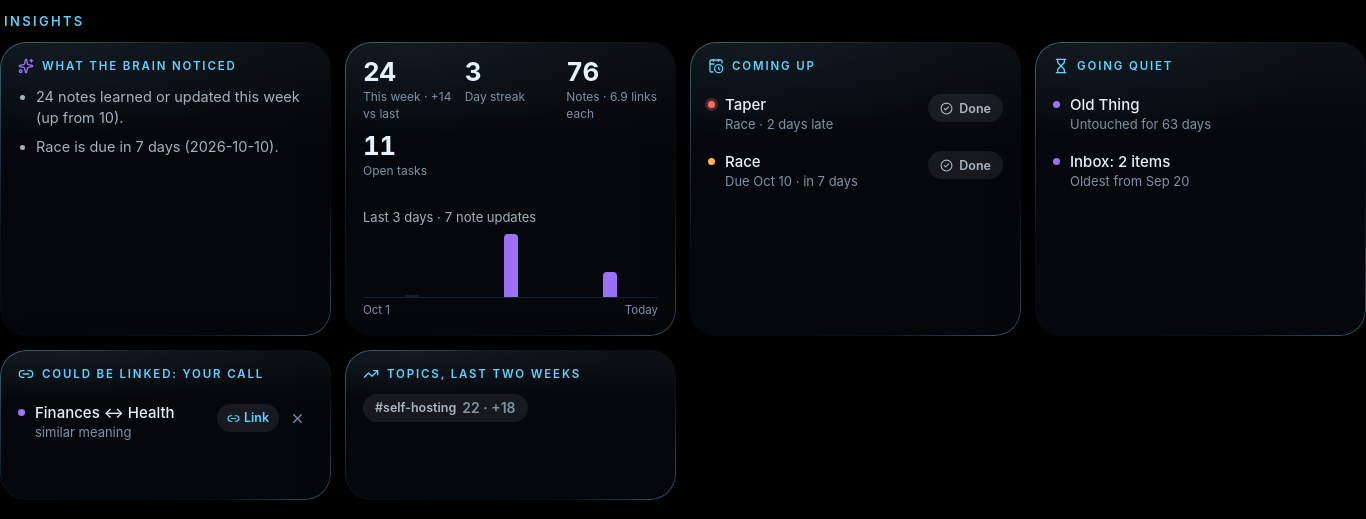
Test: <BrainInsights /> › dismisses a pair as not related, and shows an error in place if it fails
Click the button named "Finances and Health aren't related" at (297, 418), box [281,402,313,434]
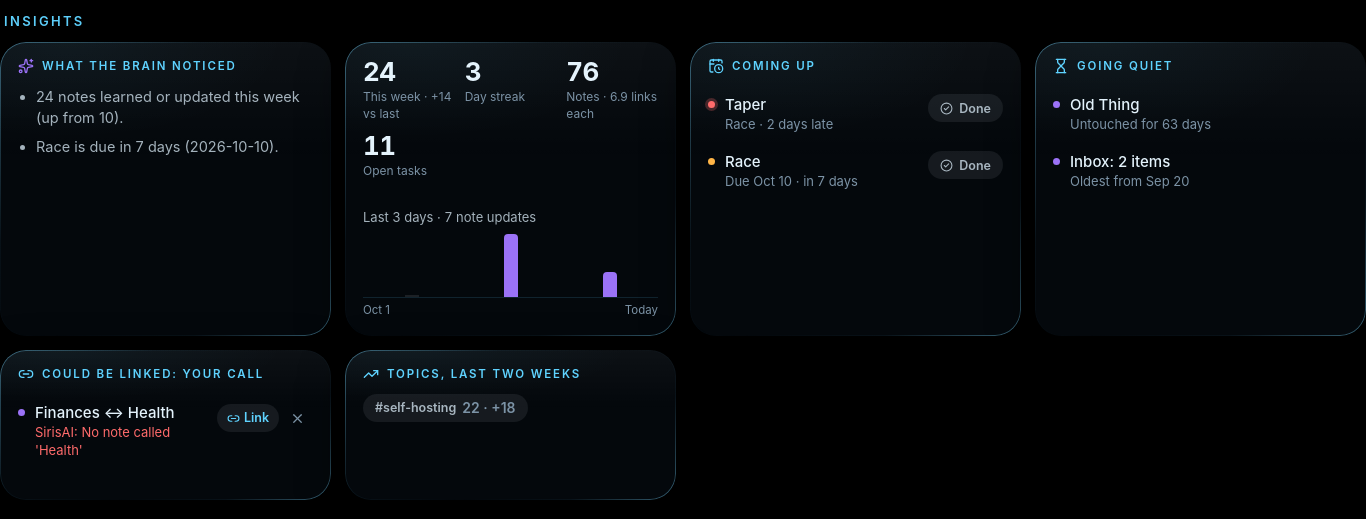
Expected: the text "Finances ↔ Health" is shown, [35,403,175,422]
Now the text "SirisAI: No note called 'Health'" is shown, box [35,424,170,458]
Click the button named "Finances and Health aren't related" at (297, 418), box [281,402,313,434]
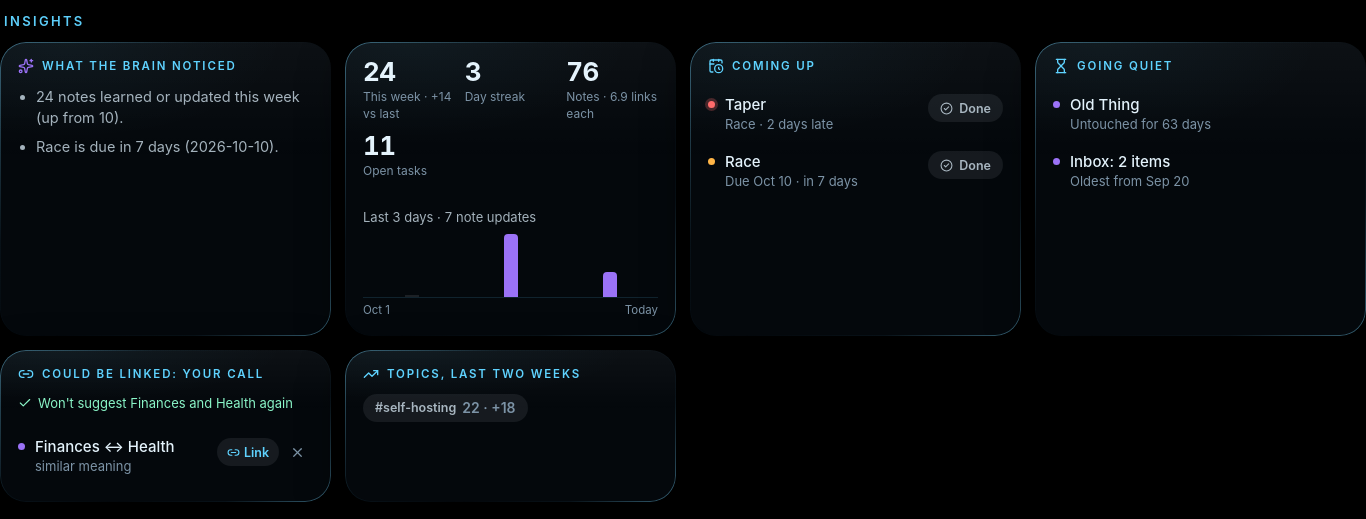
Now the message reads "Won't suggest Finances and Health again", box [38,395,293,411]
